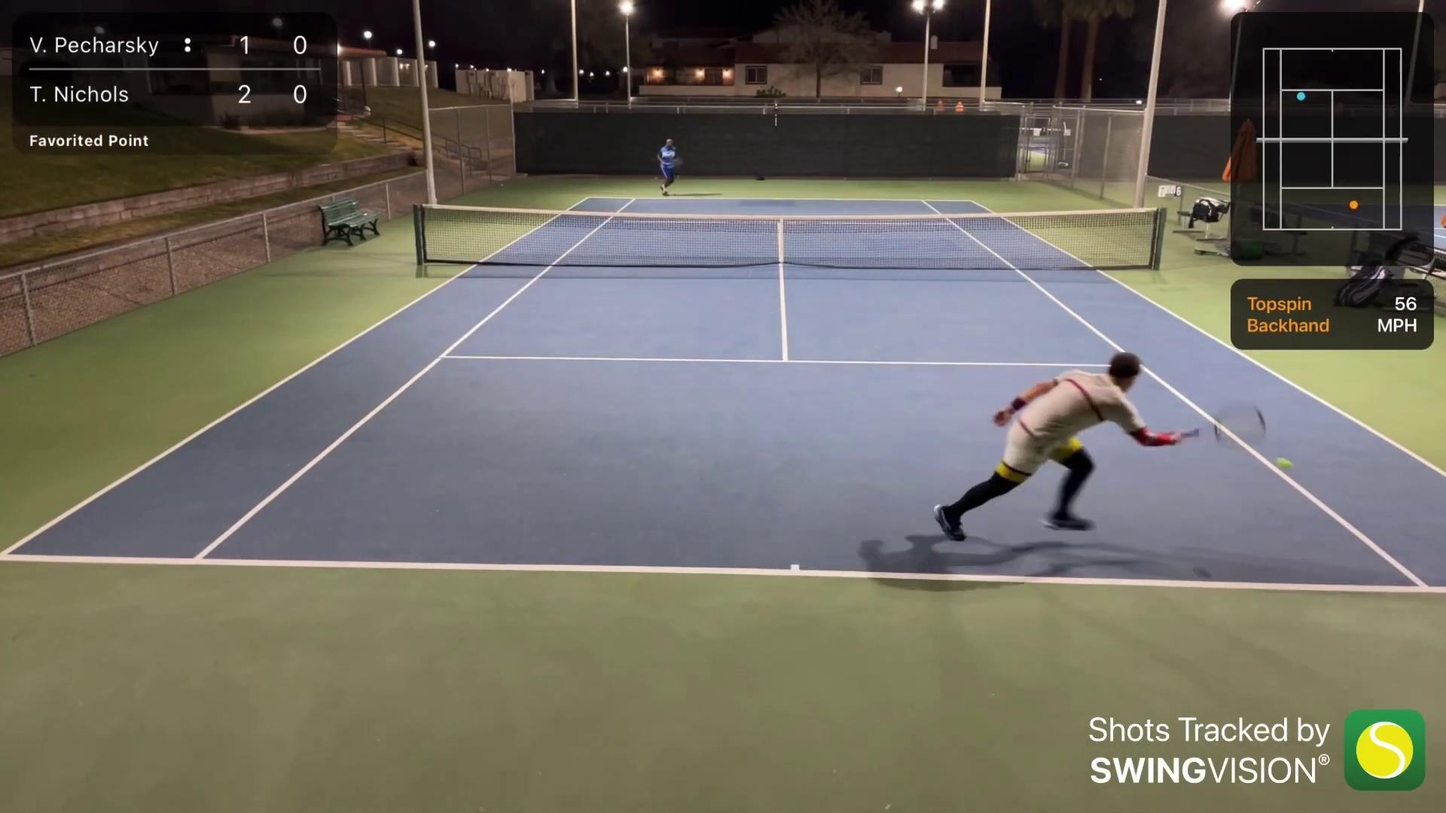ball: (1270, 450, 1299, 478)
